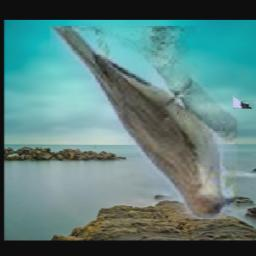Crow: (233, 36, 256, 109)
Cuckoo: (50, 26, 237, 219)
